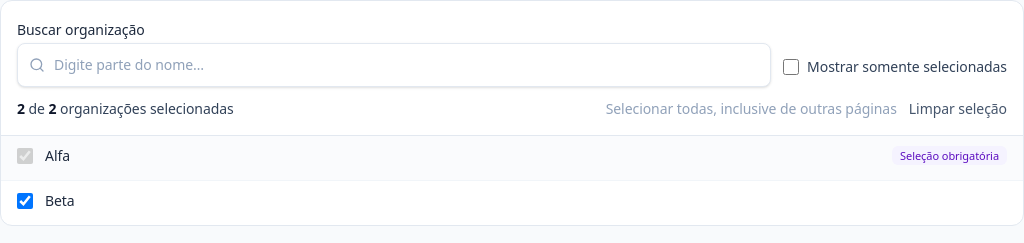
it: OrganizationMultiSelect › preserva organizações bloqueadas ao limpar a seleção
Click the button "Limpar seleção": [958, 109] box [909,99,1007,119]
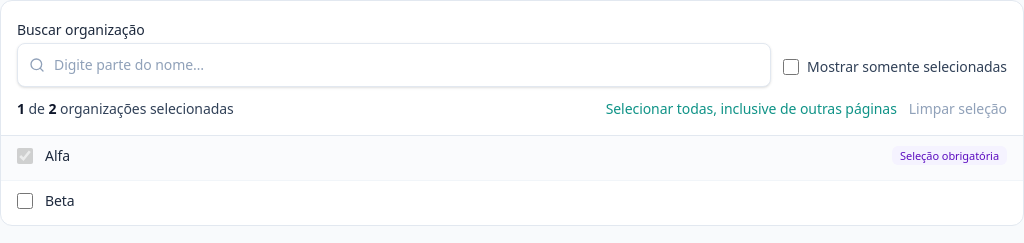
Expected: the checkbox labelled "Alfa Seleção obrigatória" is checked, [17,148,33,164]
Expected: the checkbox labelled "Beta" is not checked, [17,193,33,209]
